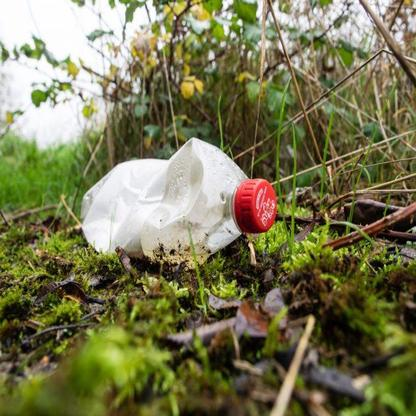plastic bottle: (79, 137, 277, 254)
